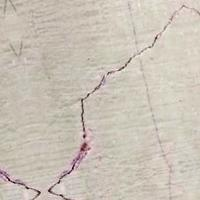crack: (0, 25, 163, 199)
